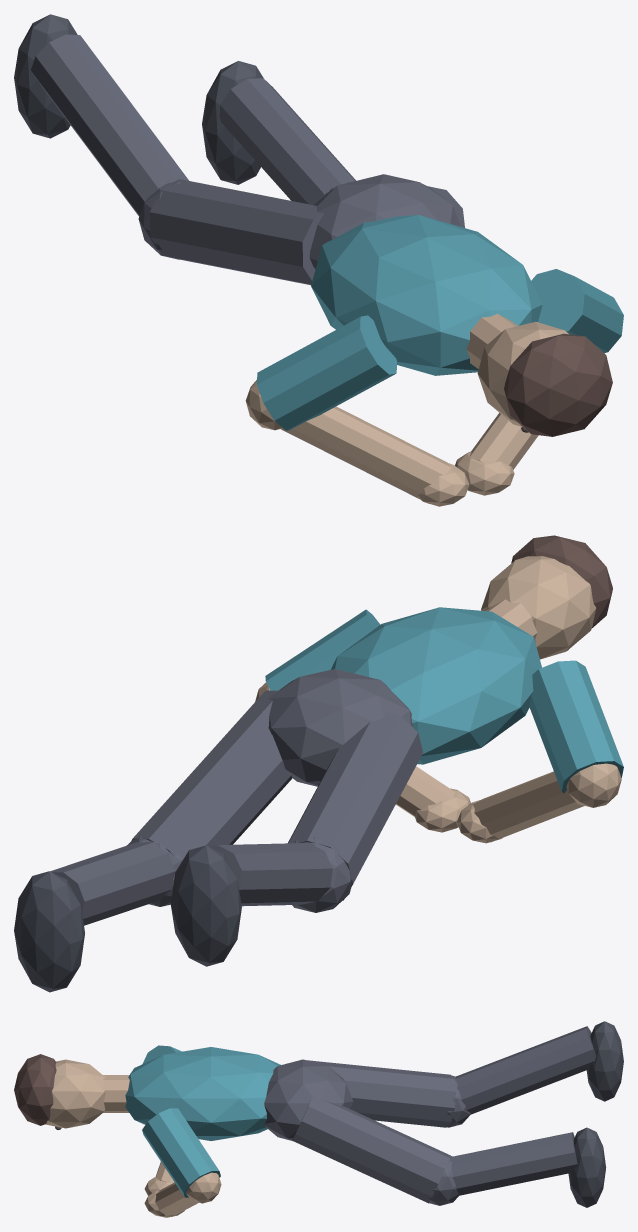
3 views of the same model, one above another, from view 1: azimuth 30°, elevation 25°; view 2: azimuth 150°, elevation 25°; view 3: azimuth 270°, elevation 25° (orthographic). The views are drawn at different scales.
Parts seen in each view (by area): view 1: world; view 2: world; view 3: world.
Part boxes in pixels (x1,y1,x2,y2): world: (14,14,623,506); world: (14,535,623,992); world: (14,1021,623,1217).
Bounding box in the file's own units: 0.93 × 0.6103 × 2.06.
